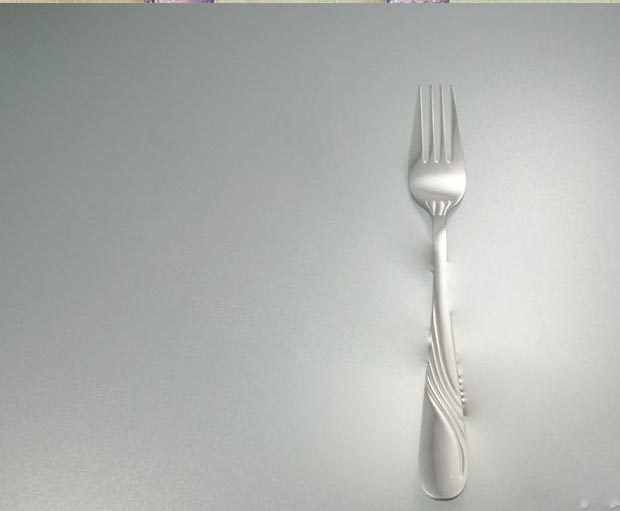Widelec: (404, 81, 472, 223)
